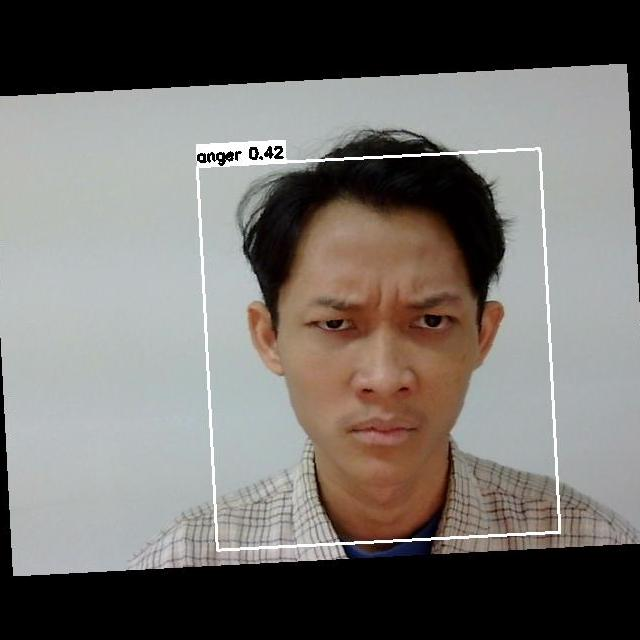Angry: (255, 275, 470, 459)
